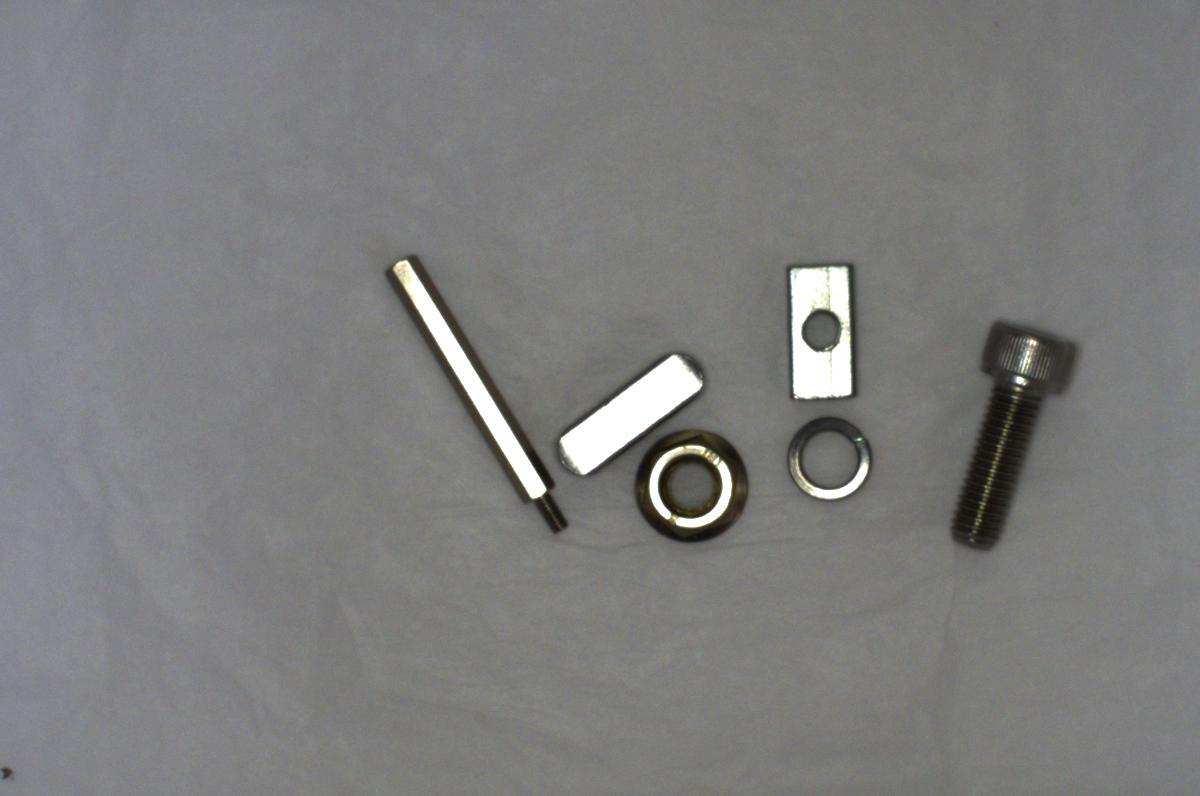Flange nut: (629, 432, 761, 550)
Hexagon screw: (937, 310, 1084, 550)
Hexagonal steel column: (380, 244, 567, 537)
Keybar: (543, 358, 719, 481)
Rectangular nut: (780, 251, 865, 406)
Spring washer: (782, 410, 884, 504)
